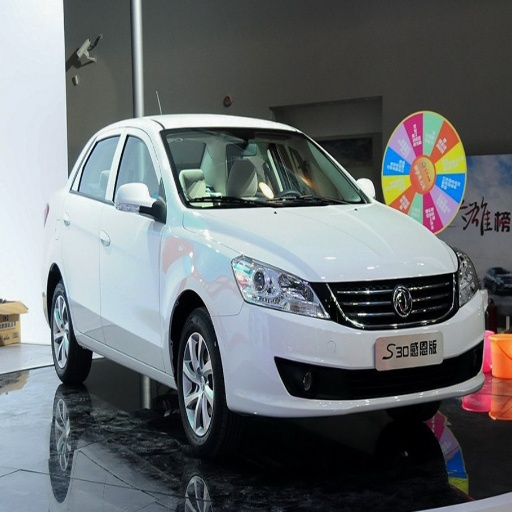front_bumper: (214, 273, 486, 417)
front_right_door: (101, 129, 168, 366)
front_right_light: (231, 255, 326, 318)
hood: (191, 202, 462, 322)
